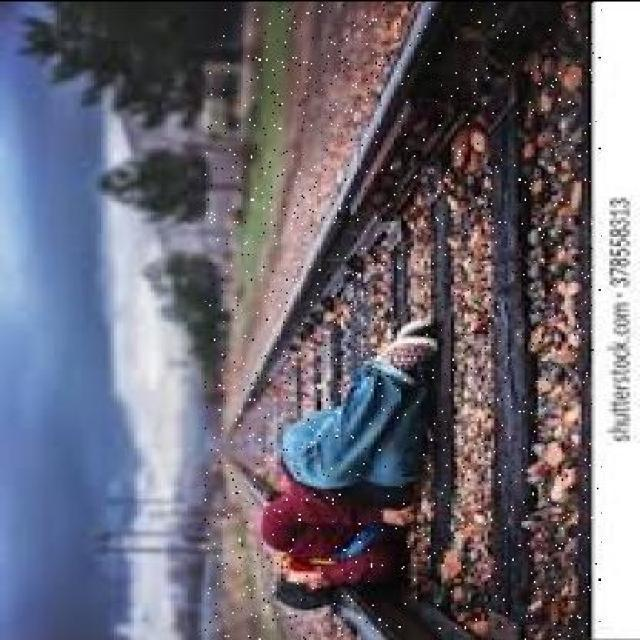danger: (264, 322, 452, 612)
rail: (205, 2, 602, 640)
